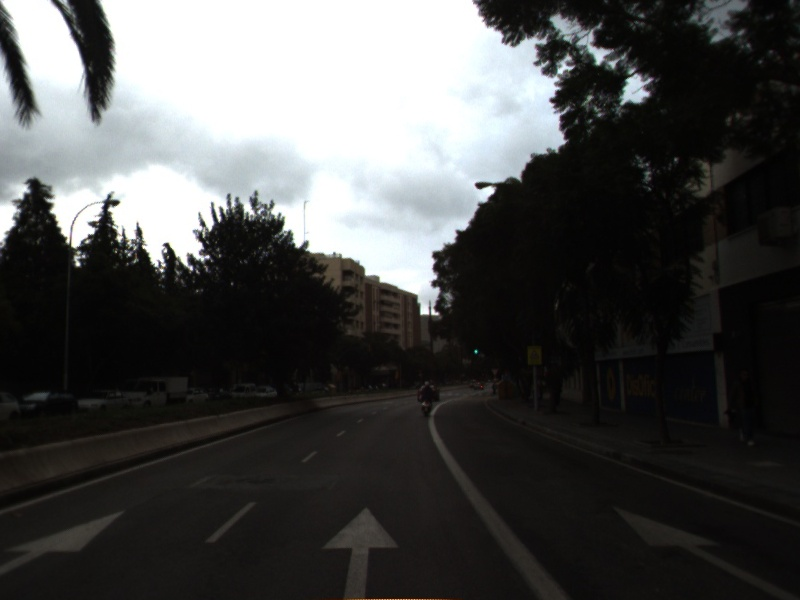STRAIGHT: (608, 502, 800, 600), (1, 507, 130, 575), (316, 503, 403, 600)
